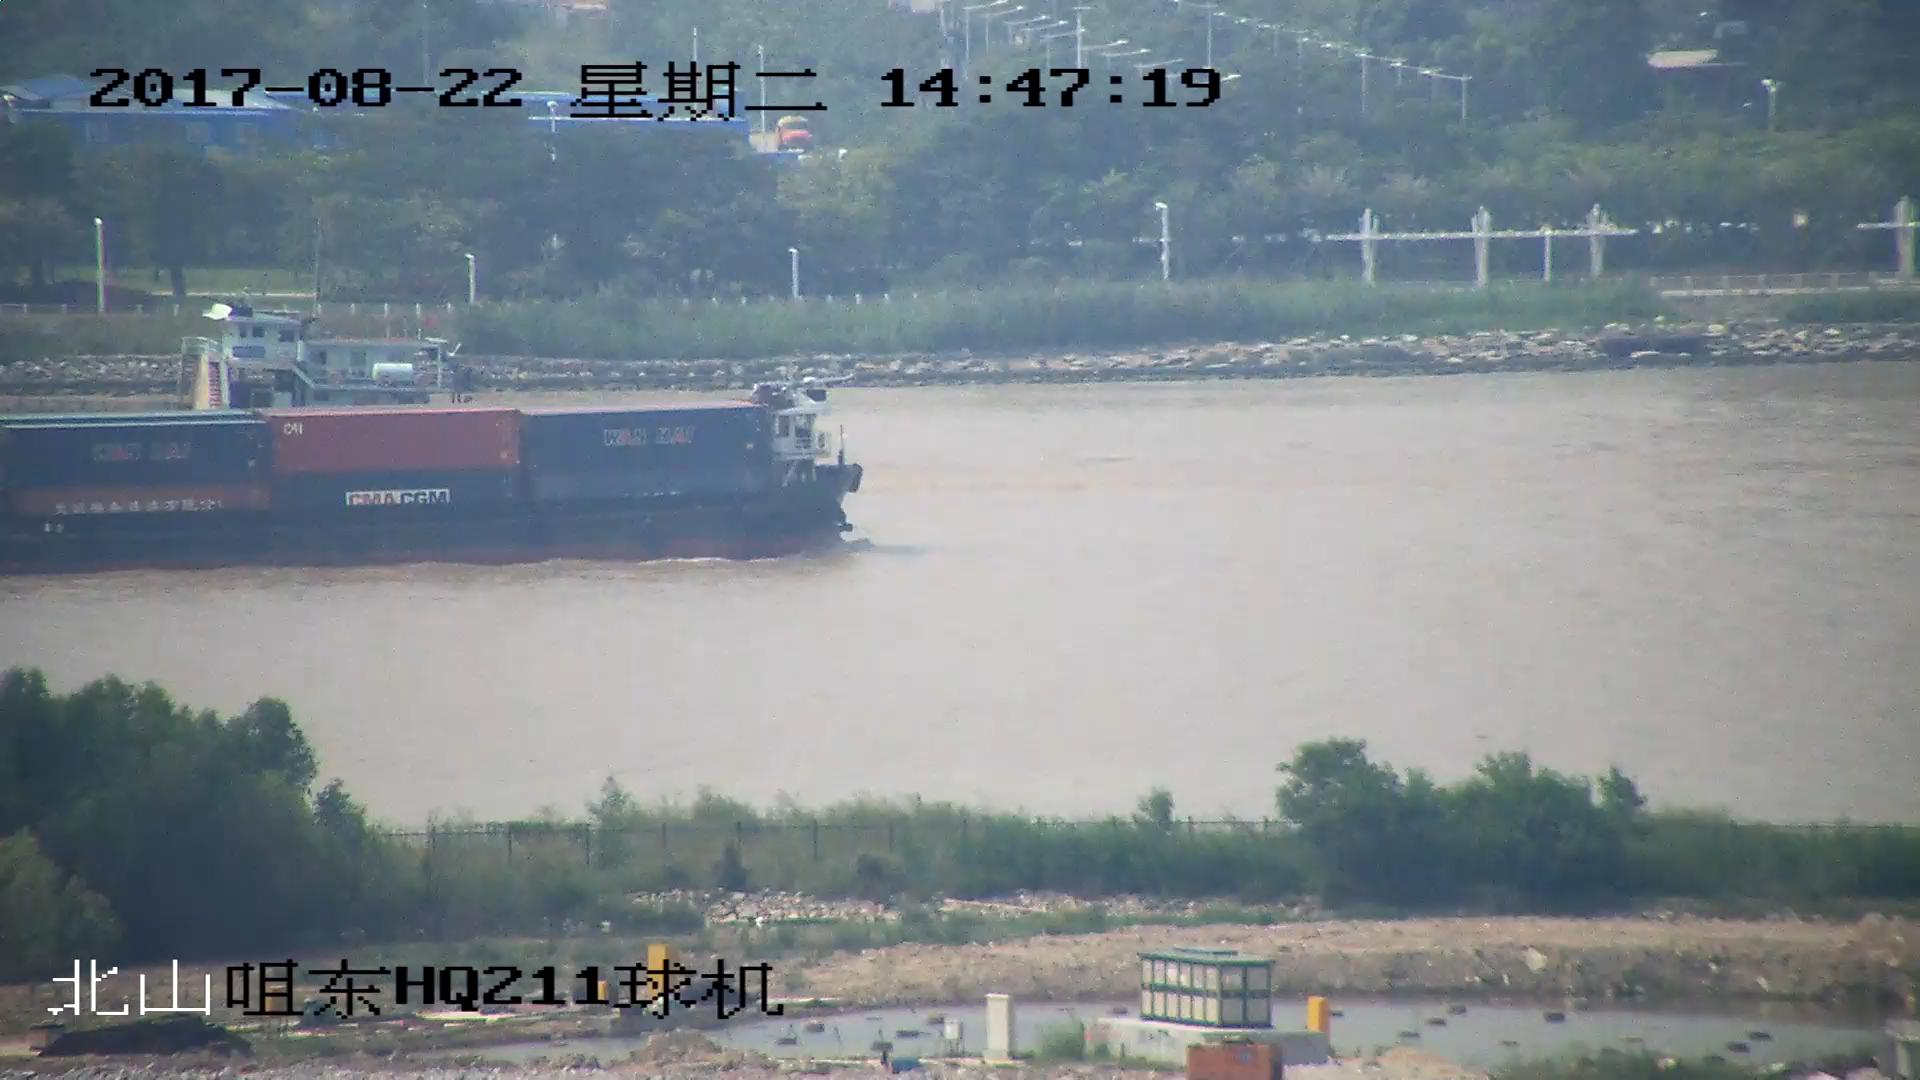bulk cargo carrier: (1, 297, 480, 408)
container ship: (1, 369, 874, 569)
